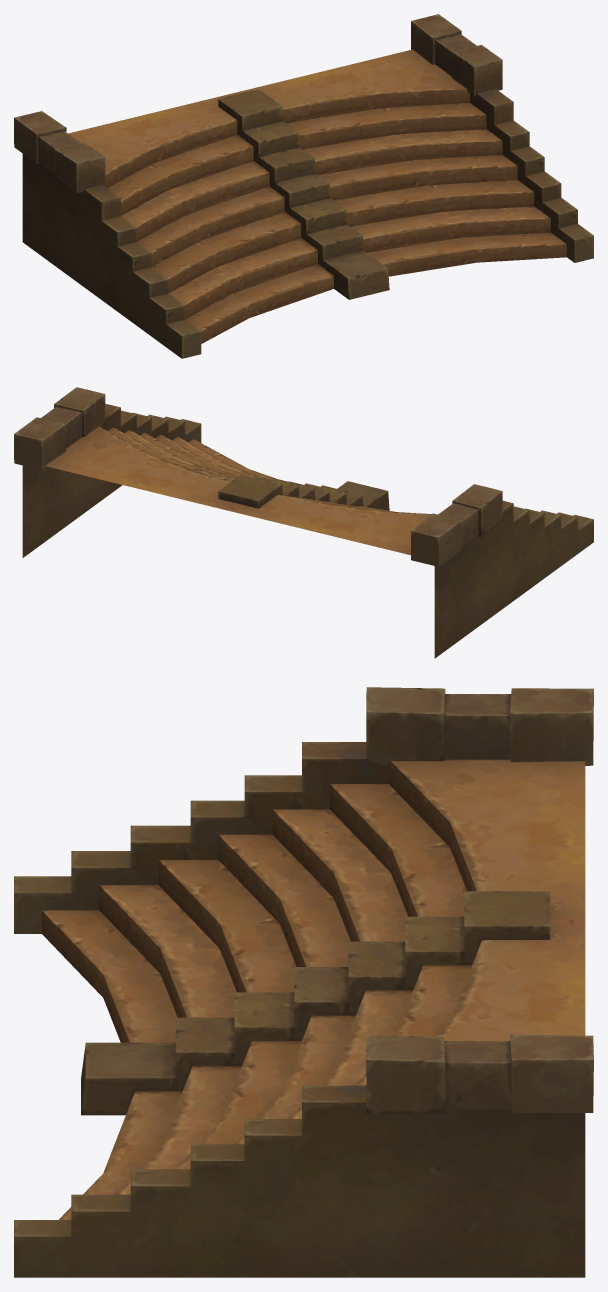
The model's file is shakian_stair_base2_brick8x2_01_01.FBX.
3 views of the same model, one above another, from view 1: azimuth 30°, elevation 25°; view 2: azimuth 150°, elevation 25°; view 3: azimuth 270°, elevation 25° (orthographic). The views are drawn at different scales.
Parts seen in each view (by area): view 1: shakian_stair_base2_brick8x2_01_01; view 2: shakian_stair_base2_brick8x2_01_01; view 3: shakian_stair_base2_brick8x2_01_01.
Boxes of the visible parts, box(x1,y1,x2,y2) form: shakian_stair_base2_brick8x2_01_01: box(14, 14, 593, 358); shakian_stair_base2_brick8x2_01_01: box(14, 387, 593, 658); shakian_stair_base2_brick8x2_01_01: box(14, 687, 593, 1277).
Bounding box in the file's own units: 9.16 × 2.56 × 6.
